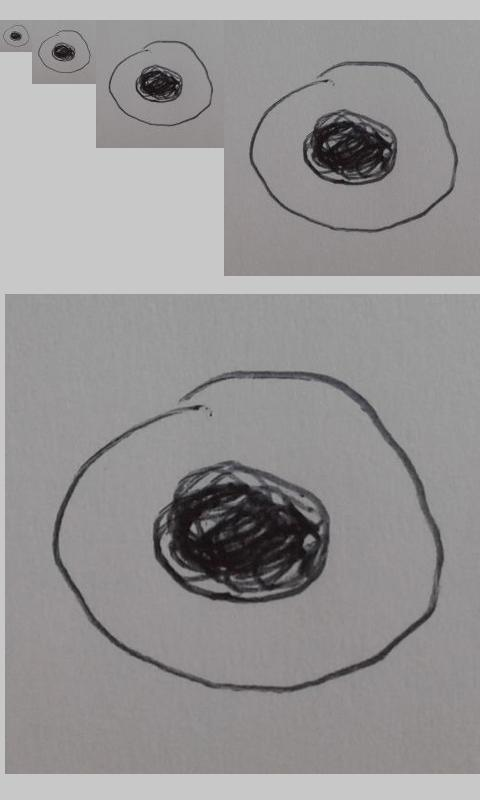radio_button: (48, 364, 447, 695), (247, 58, 460, 234), (106, 39, 214, 127), (36, 28, 91, 75), (1, 23, 29, 48)
